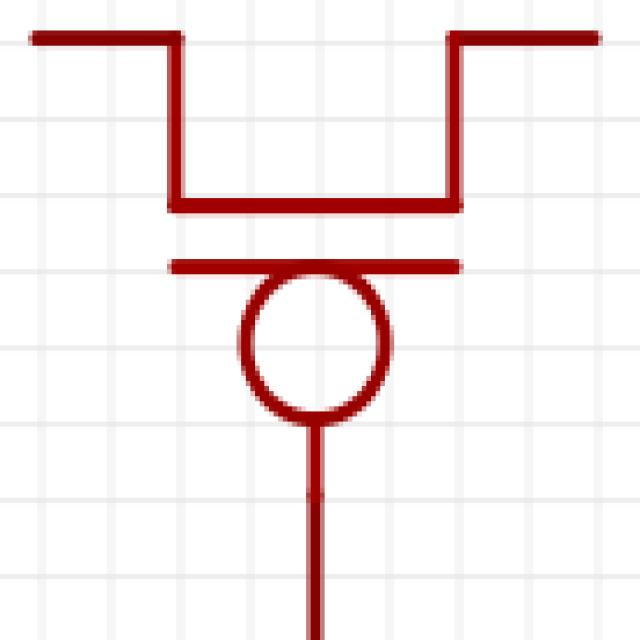pmos: (38, 1, 640, 576)
